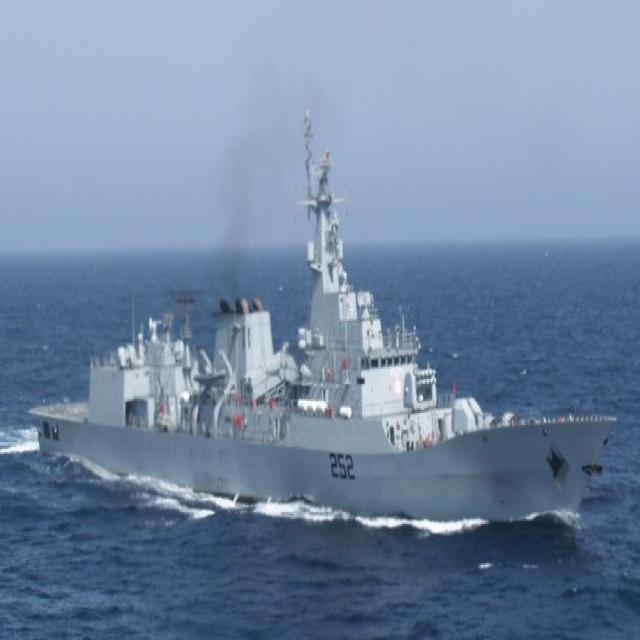navalvessels: (35, 107, 620, 527)
